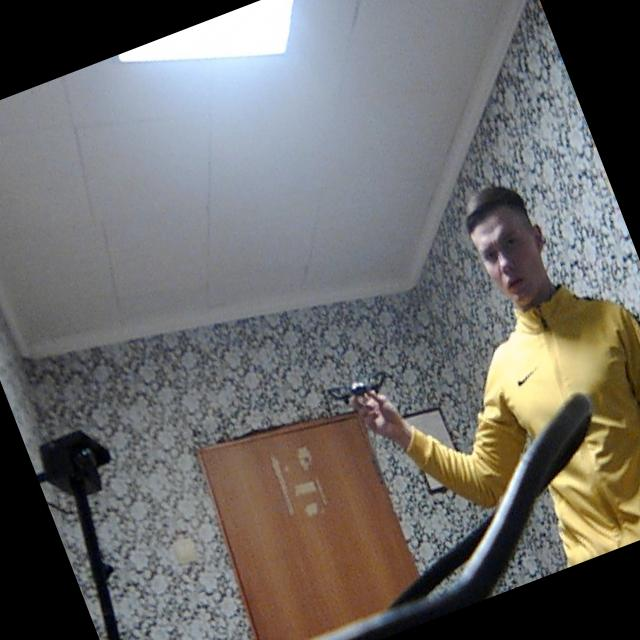drone: (312, 351, 406, 426)
